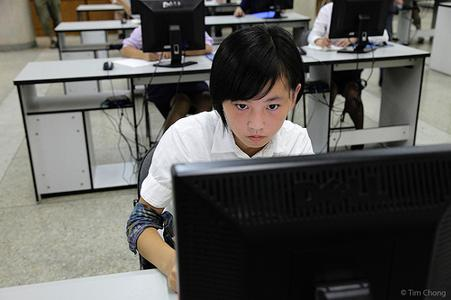person: (126, 24, 319, 290)
